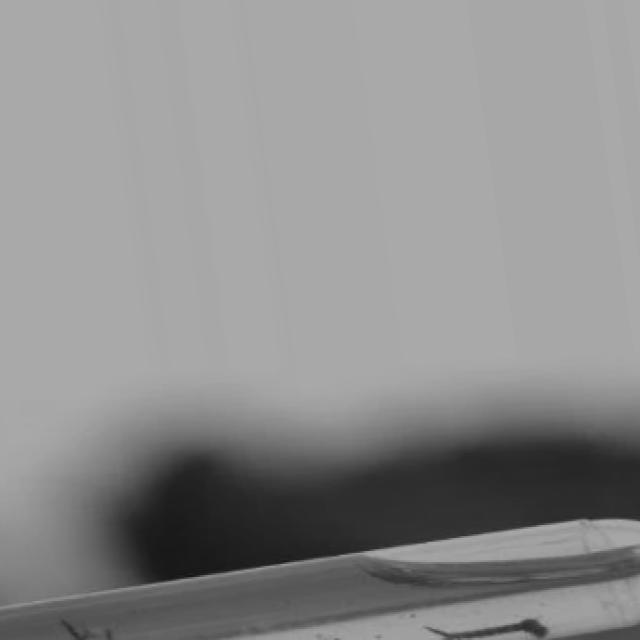larvas: (428, 618, 548, 640), (58, 614, 112, 640)
